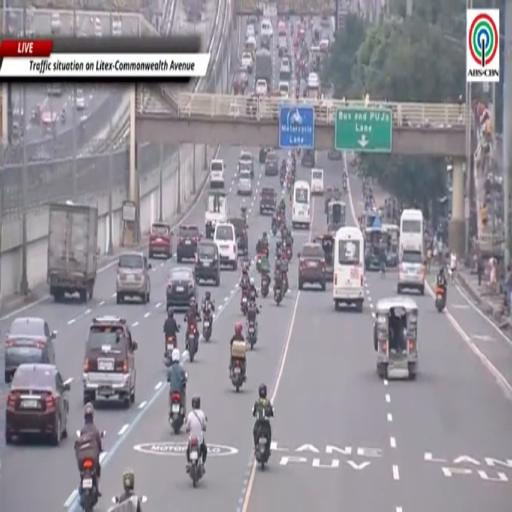car: (5, 363, 71, 445), (83, 316, 137, 407), (5, 317, 55, 382), (117, 252, 151, 303), (298, 244, 326, 291), (166, 267, 197, 309), (397, 250, 425, 294), (214, 222, 238, 269), (195, 240, 220, 285), (177, 226, 201, 262), (149, 222, 172, 259), (228, 218, 248, 255), (325, 187, 342, 214), (259, 187, 276, 214), (210, 159, 224, 188), (237, 170, 252, 196), (239, 151, 253, 178), (265, 151, 278, 175), (279, 59, 291, 82), (301, 150, 316, 168), (260, 19, 273, 38), (241, 53, 253, 73), (237, 67, 249, 87), (51, 12, 61, 35), (277, 35, 287, 57), (247, 15, 258, 35), (112, 15, 122, 36), (76, 89, 86, 110), (259, 148, 272, 164), (278, 81, 290, 98), (255, 79, 267, 95), (328, 149, 342, 161), (319, 39, 330, 54), (260, 36, 271, 50), (95, 18, 103, 37), (246, 25, 255, 39)
jeepney: (374, 297, 418, 379), (364, 227, 384, 270), (383, 223, 399, 267), (327, 200, 345, 232)
motorcycle: (79, 458, 98, 511), (189, 439, 203, 487), (169, 392, 184, 435), (255, 430, 269, 470), (231, 359, 245, 392), (186, 324, 198, 362), (435, 286, 446, 312), (248, 318, 257, 349), (129, 495, 147, 510), (203, 312, 212, 342), (165, 336, 176, 358), (261, 274, 270, 298), (274, 287, 282, 306), (282, 271, 288, 294), (256, 254, 263, 273), (241, 293, 247, 315), (271, 219, 277, 236), (286, 246, 292, 261), (280, 173, 285, 187), (342, 180, 347, 191)
truck: (47, 201, 98, 302), (205, 191, 227, 238), (255, 48, 272, 90)
